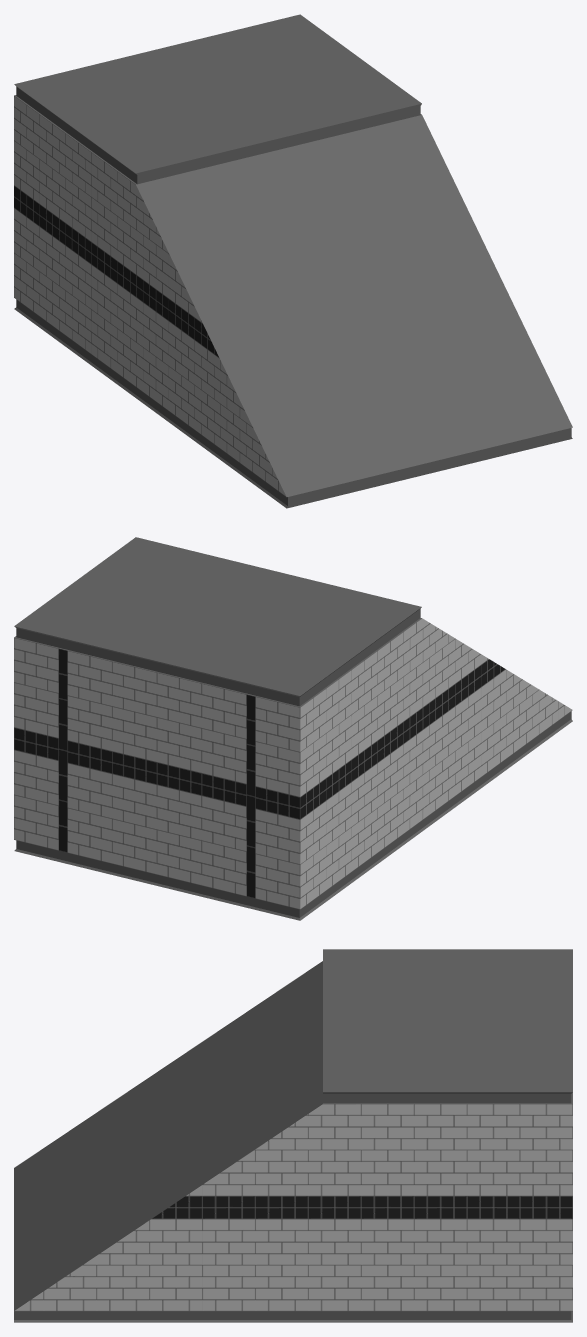
File: SW_ENV_StationStair_Long_Platform_Base_FF.fbx
3 views of the same model, one above another, from view 1: azimuth 30°, elevation 25°; view 2: azimuth 150°, elevation 25°; view 3: azimuth 270°, elevation 25° (orthographic). The views are drawn at different scales.
Visible parts, largest first — view 1: SW_ENV_StationStair_Long_Platform_Base_FF; view 2: SW_ENV_StationStair_Long_Platform_Base_FF; view 3: SW_ENV_StationStair_Long_Platform_Base_FF.
Part boxes in pixels (bbox=[...]): SW_ENV_StationStair_Long_Platform_Base_FF: bbox=[14, 14, 572, 508]; SW_ENV_StationStair_Long_Platform_Base_FF: bbox=[14, 537, 572, 920]; SW_ENV_StationStair_Long_Platform_Base_FF: bbox=[14, 949, 572, 1322].
Bounding box in the file's own units: 400 × 300 × 660.
